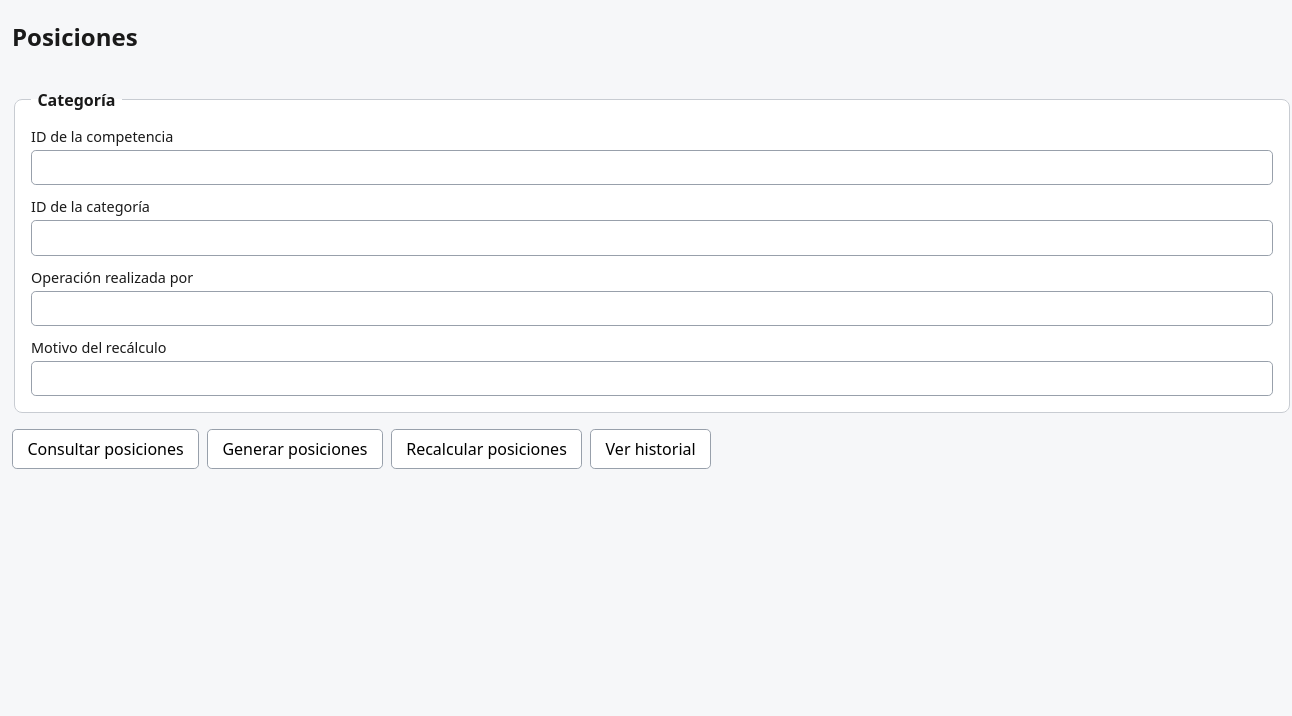
Test: StandingsPage › recalculates the standings with a reason and shows the new revision
The image size is (1292, 716).
Type "COMPETITION-1" into the field labelled "ID de la competencia".
click(652, 168); type("COMPETITION-1")  # box [31,150,1273,185]
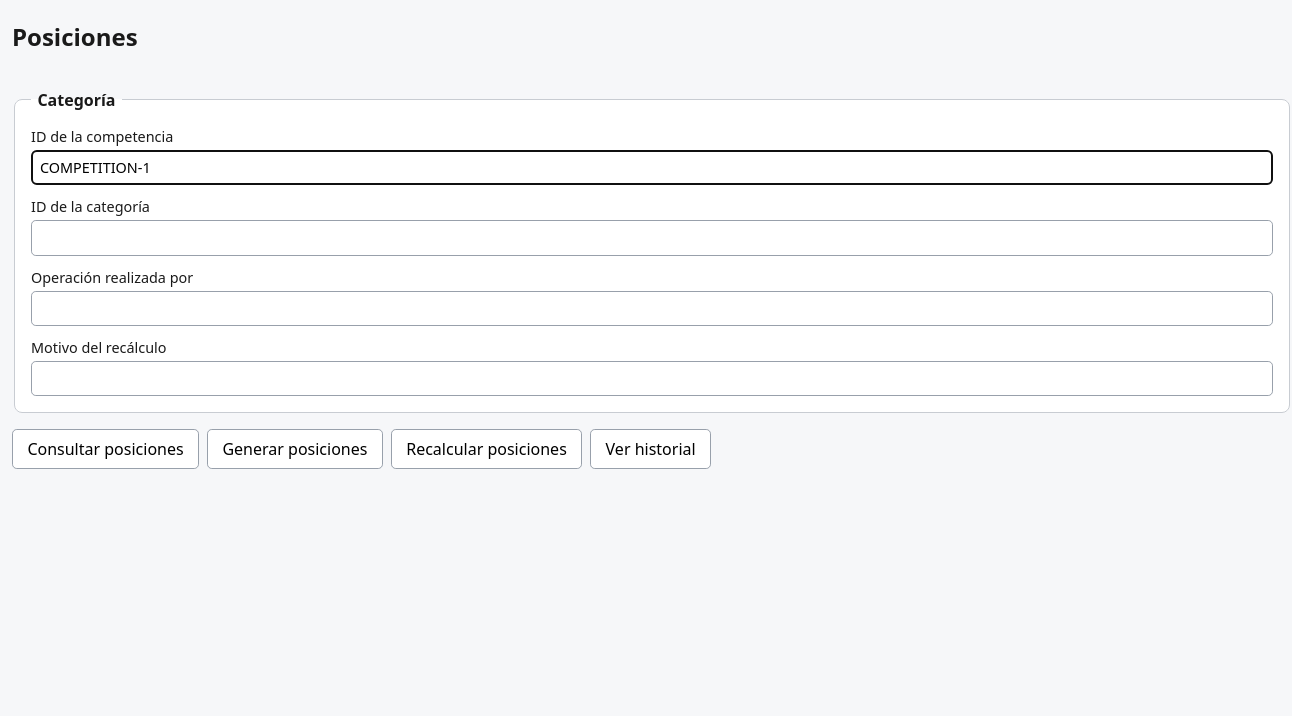
Type "CATEGORY-1" into the field labelled "ID de la categoría".
click(652, 238); type("CATEGORY-1")  # box [31,220,1273,256]
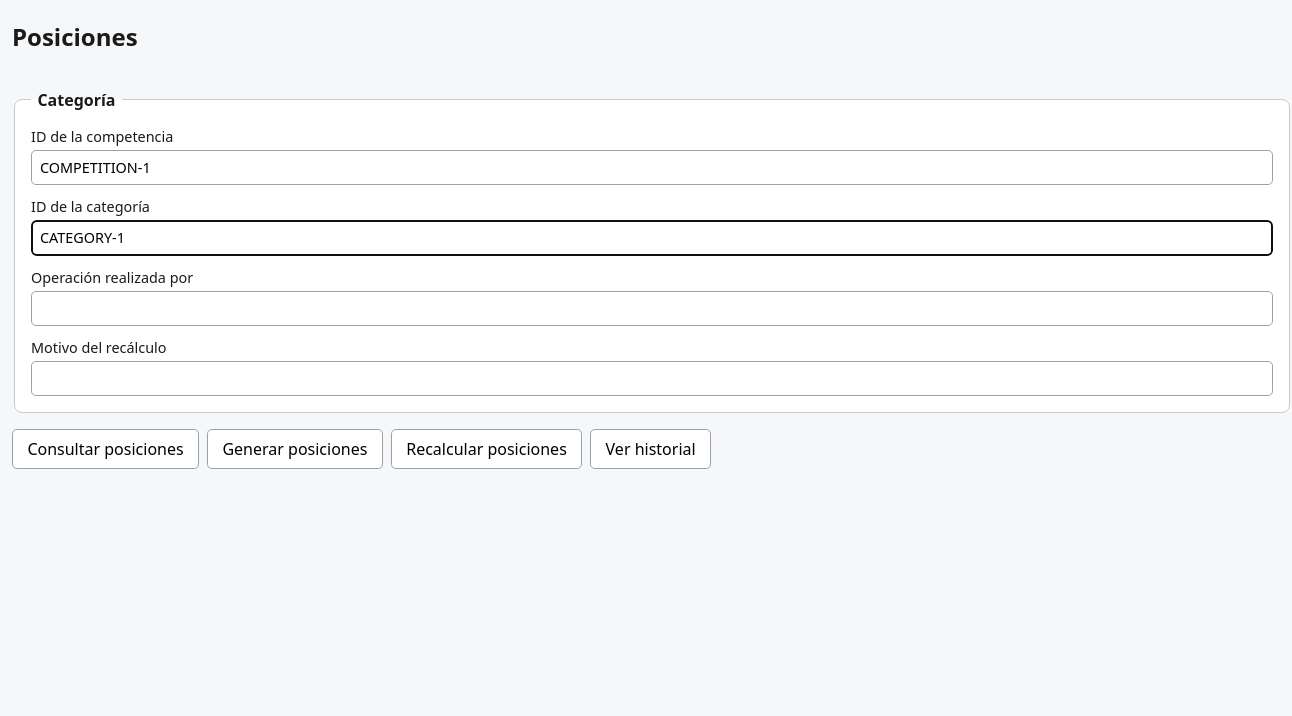
Type "organizer" into the field labelled "Operación realizada por".
click(652, 308); type("organizer")  # box [31,291,1273,326]
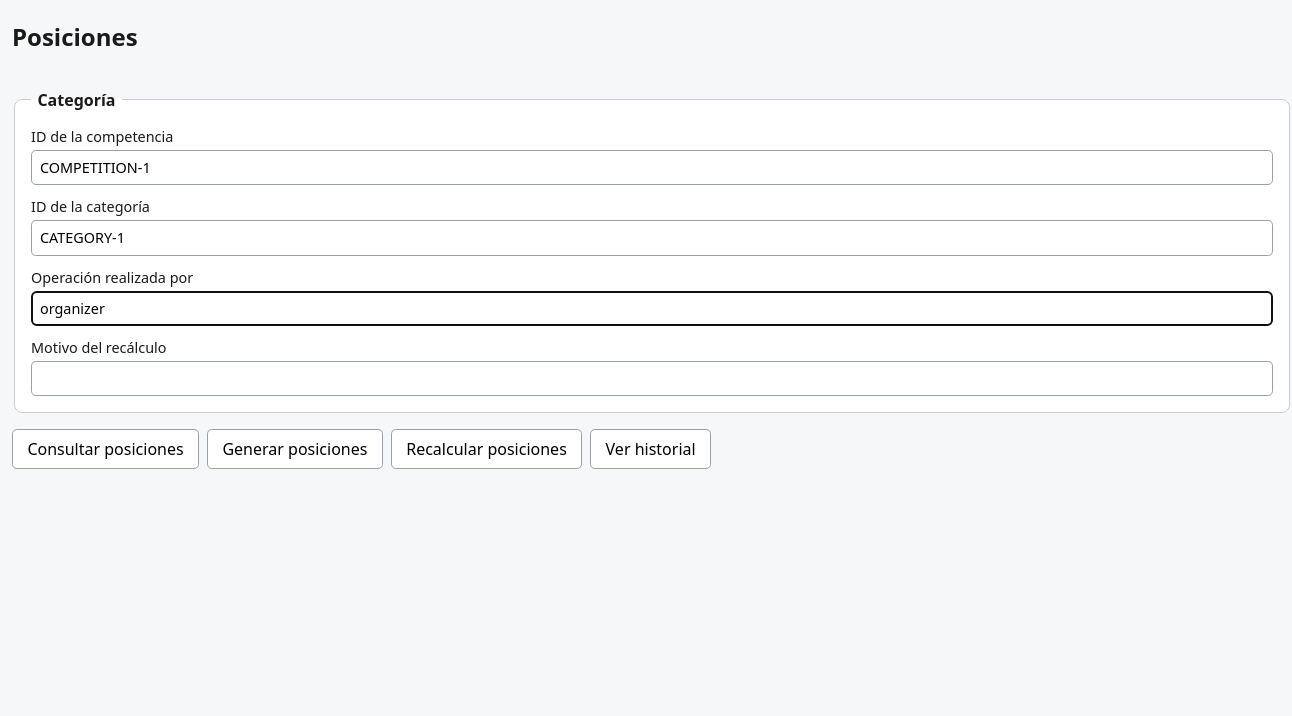
Click the button "Recalcular posiciones".
click(486, 449)  # box [391,429,582,469]
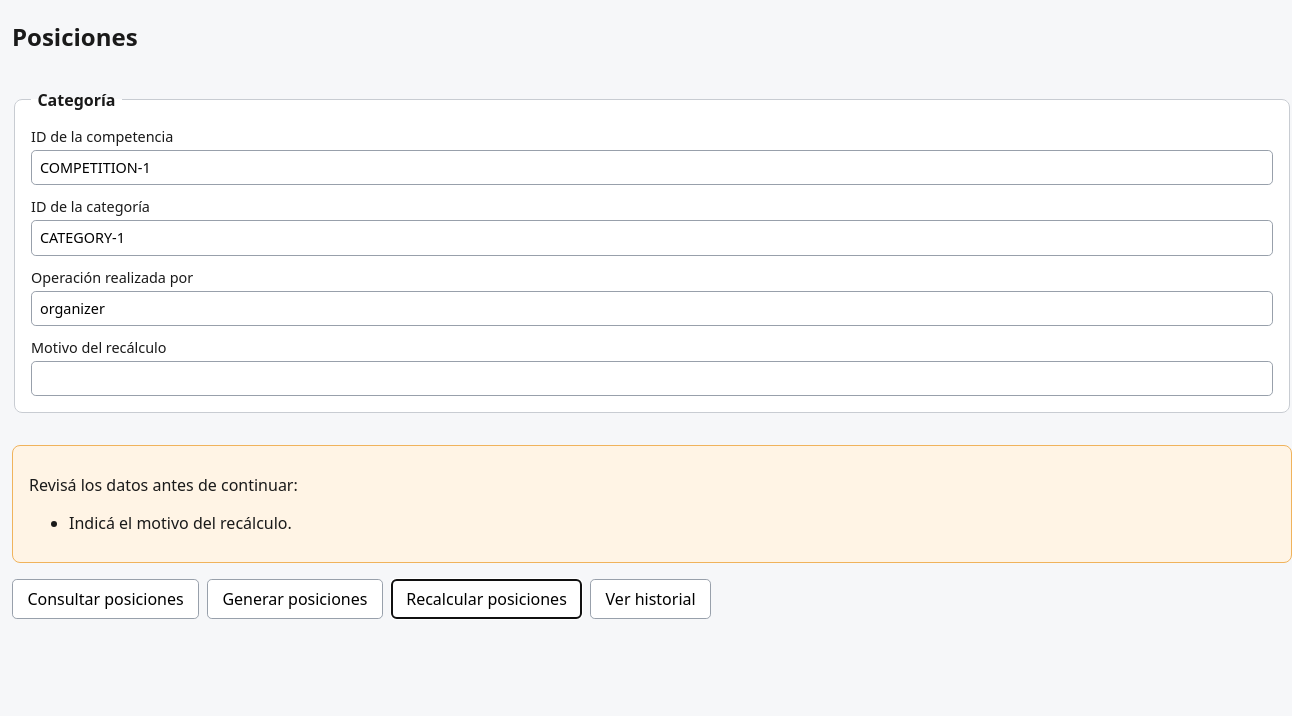
Now the message shows "Indicá el motivo del recálculo.", box [69,512,292,534]
Type "appeal APPEAL-1 accepted" into the field labelled "Motivo del recálculo".
click(652, 379); type("appeal APPEAL-1 accepted")  # box [31,361,1273,396]
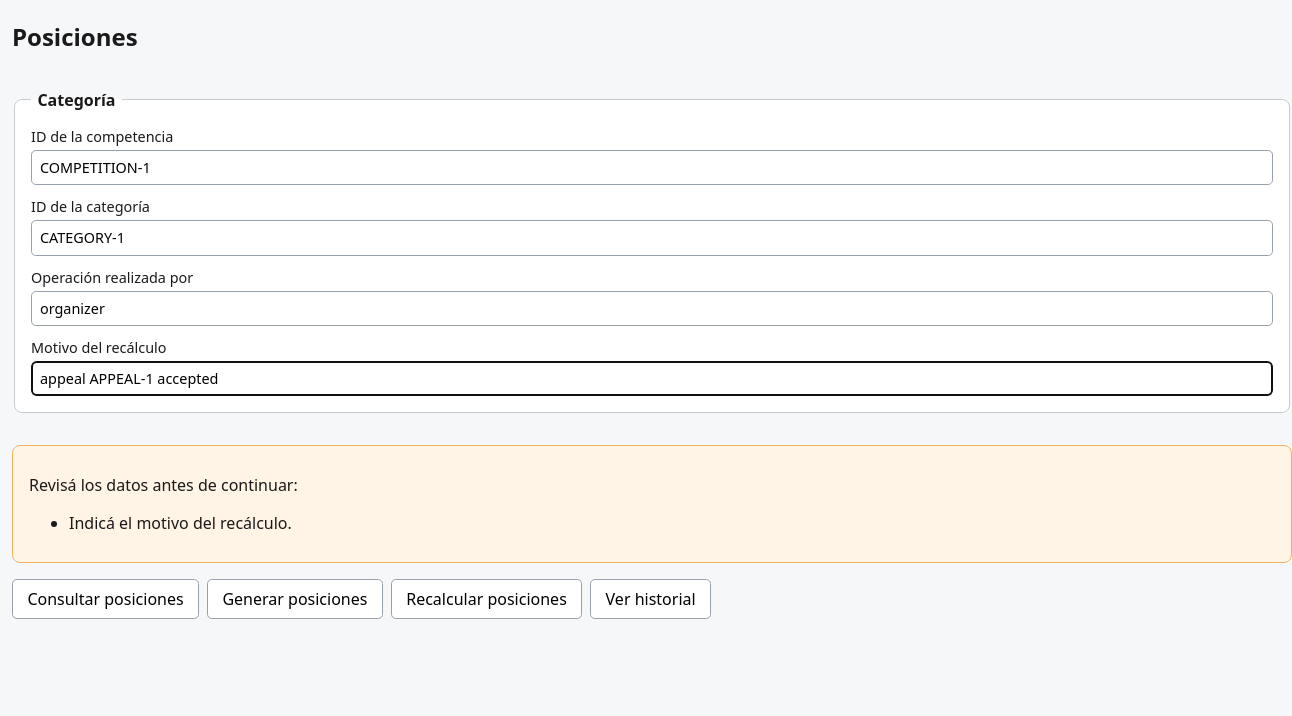
Click the button "Recalcular posiciones".
click(486, 599)  # box [391,579,582,619]
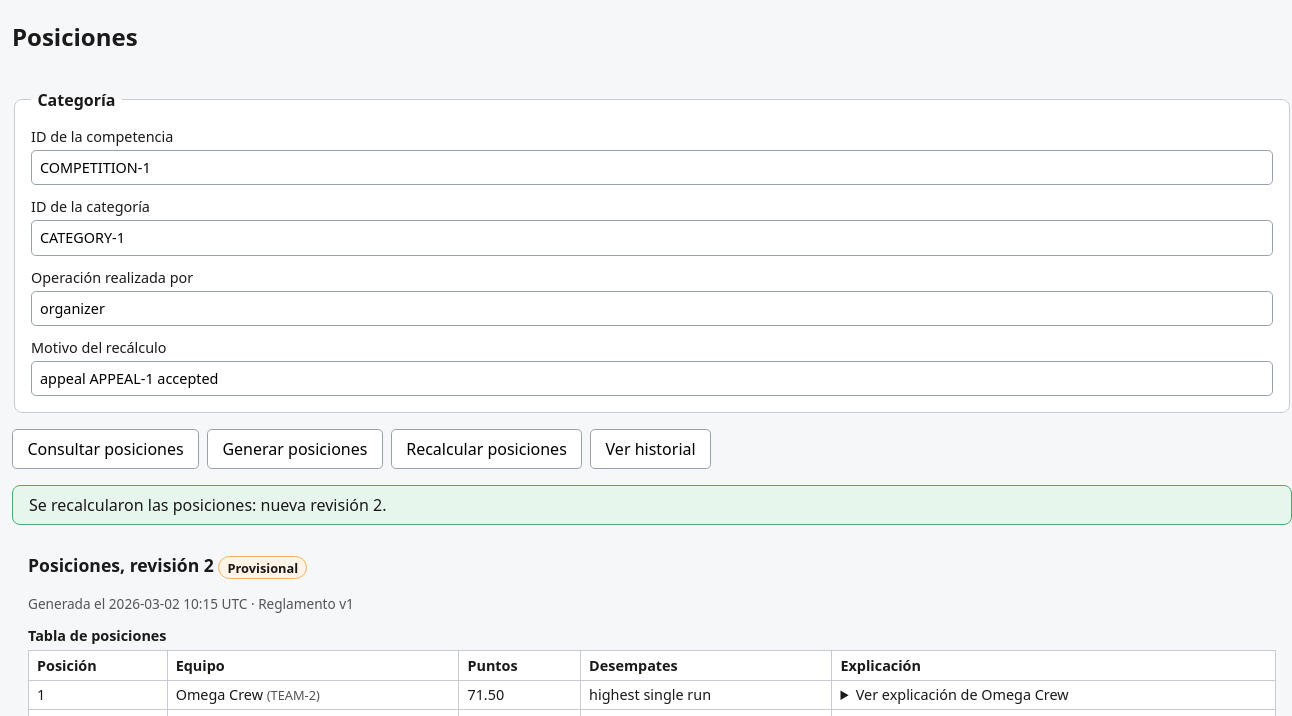
Now the message shows "nueva revisión 2", box [29,494,386,516]
